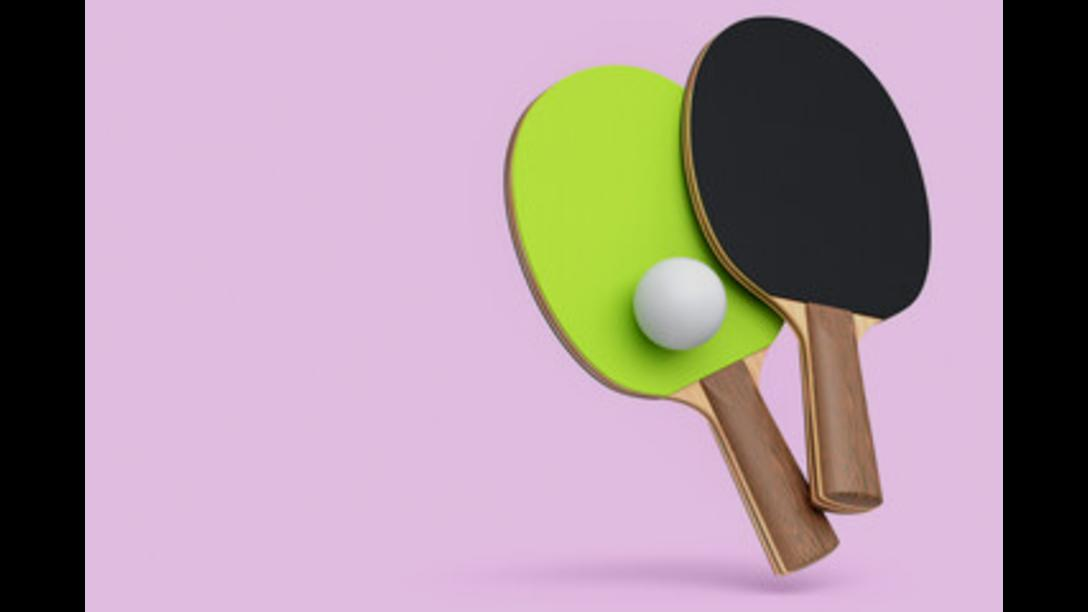Table-Tennis-Ball: (635, 256, 725, 348)
